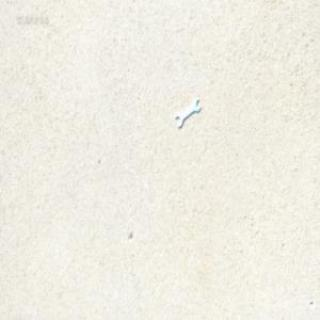Wrenchtrack_idkeyframe: (169, 95, 207, 132)
